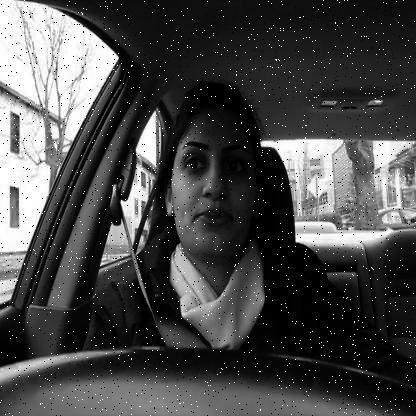seatbelt: (100, 77, 266, 349)
